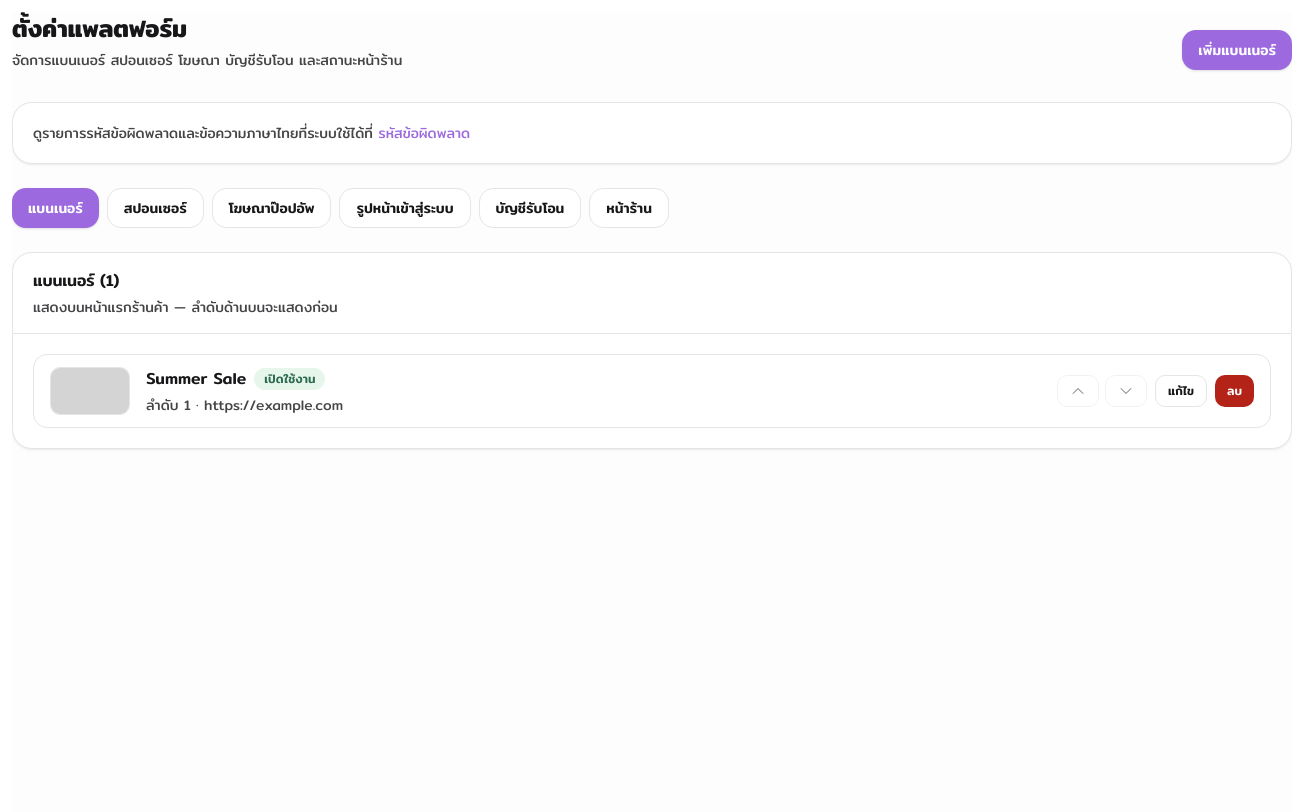
Test: AdminPlatformSettingsPage › shows login images tab and hides header create action
This screenshot has width=1304, height=812.
What coordinates should you click on to do the following:
click the tab "รูปหน้าเข้าสู่ระบบ"
I would click on:
 (405, 208)
Its box is 339,188 -> 470,228.
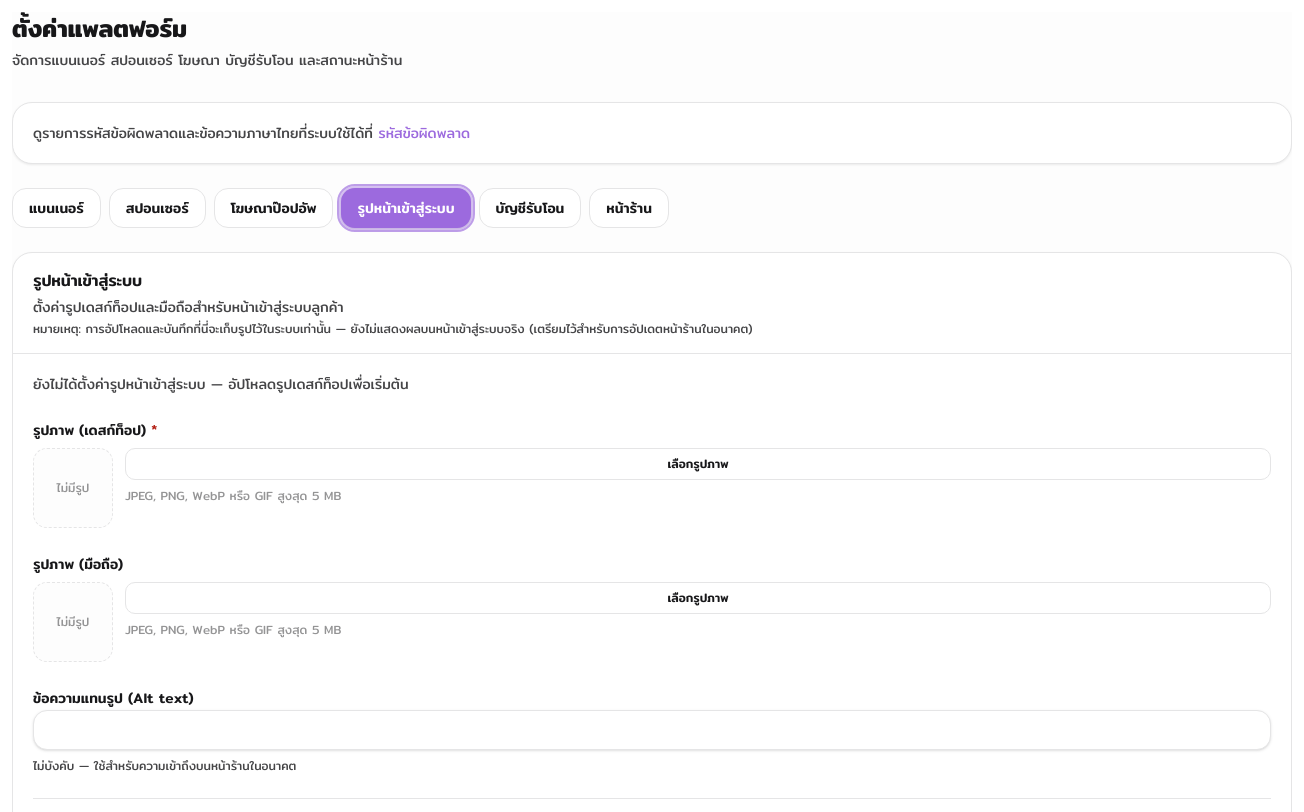
Check: the heading "รูปหน้าเข้าสู่ระบบ" is shown, box 33,268 -> 142,293
Check: the button "เพิ่ม" is gone
